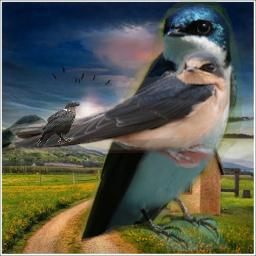Crow: (36, 101, 80, 146)
Swallow: (81, 1, 242, 251), (9, 47, 230, 168)
